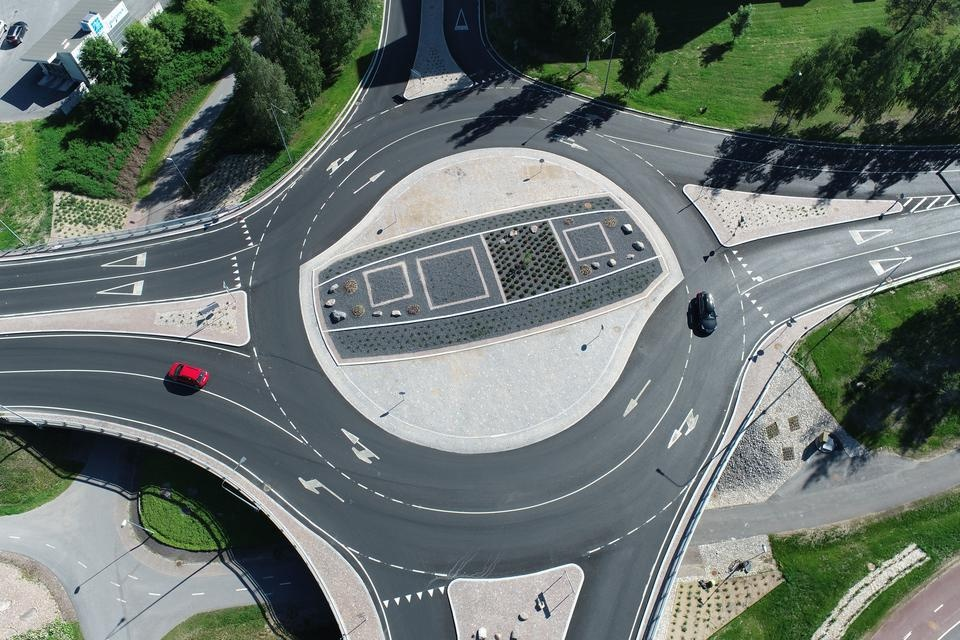roundabout: (199, 35, 778, 640)
